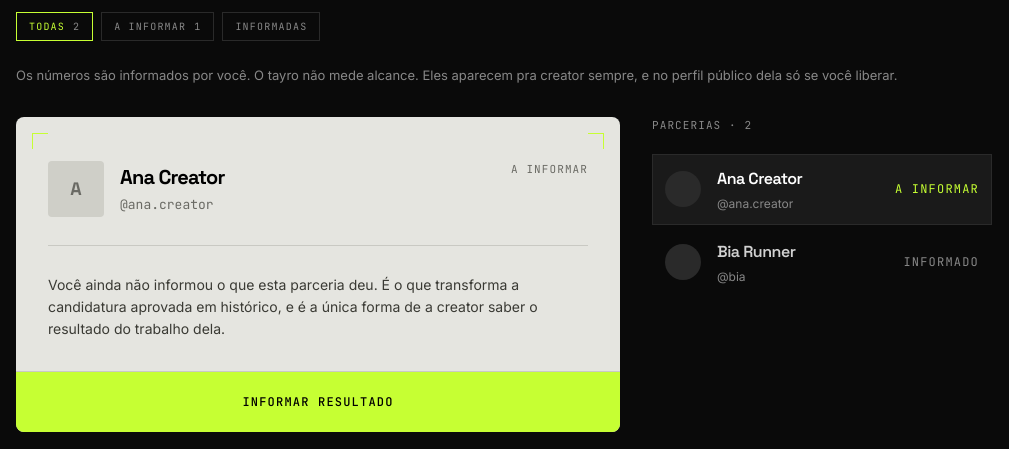
Test: CampaignResultsTab › filtra por parceria a informar
Click the button "A informar1": (158, 26) [101,12,214,41]
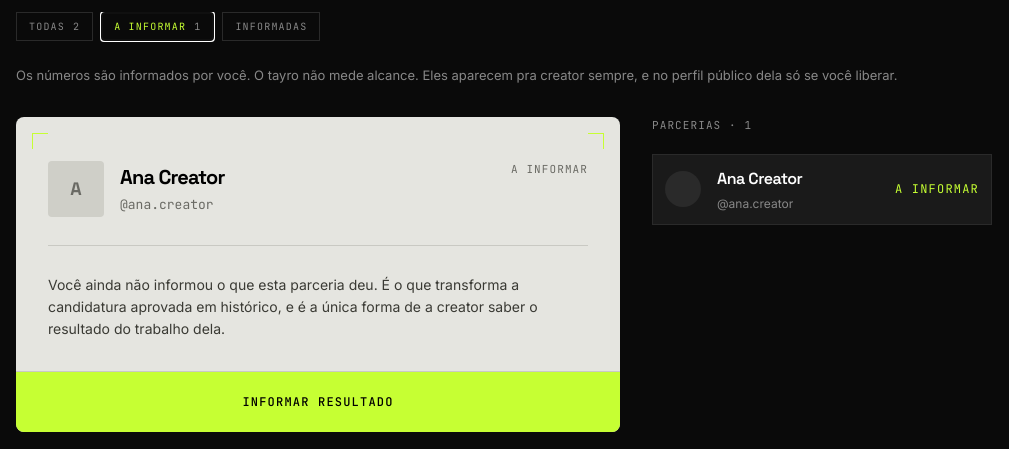
Expected: the text "Ana Creator" below "Parcerias" is shown, [717,168,802,189]
Expected: the button "Bia Runner" is gone
